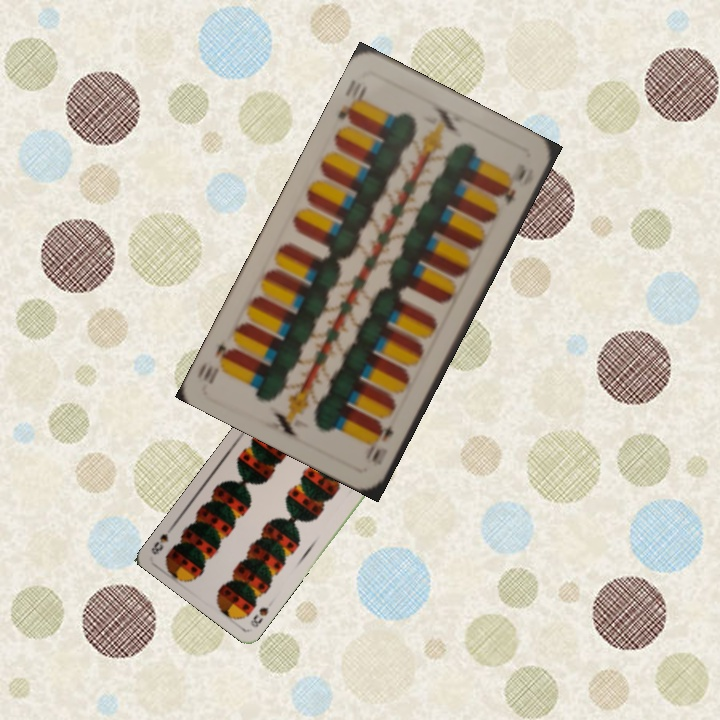E10: (333, 81, 368, 127), (367, 421, 397, 469)
S8: (246, 603, 271, 630)
